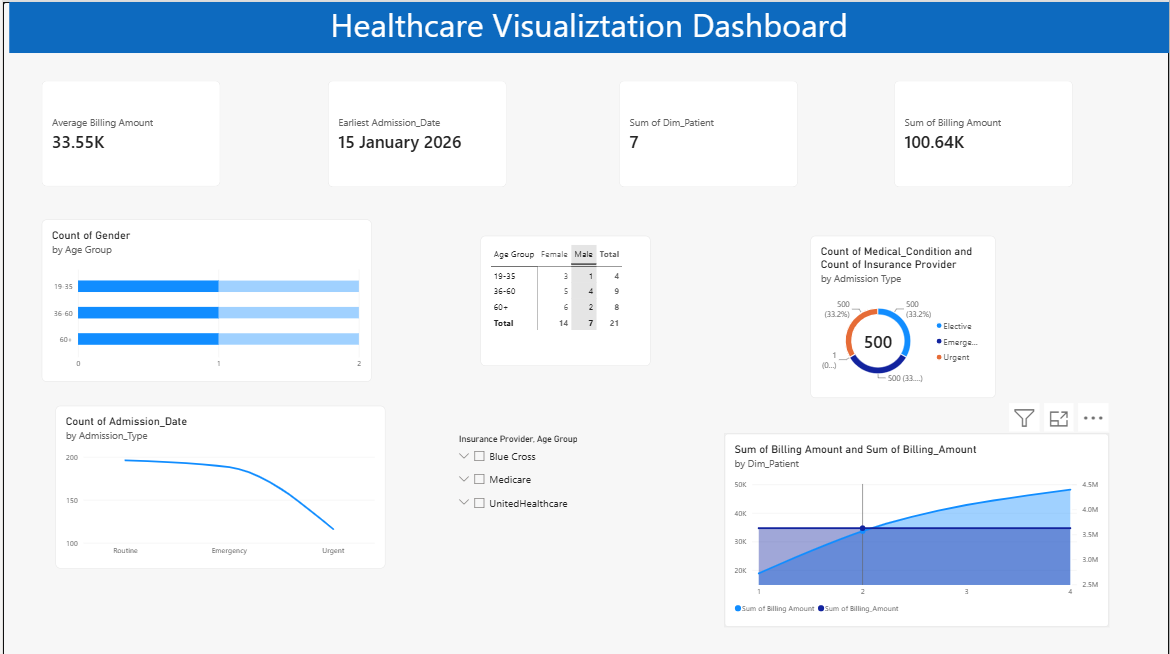

The dashboard page shown, as its layout file describes it:
{"tool":"powerbi","page":{"name":"Page 1","canvas":[1920,1080],"ordinal":0},"visuals":[{"type":"textbox","box":[10.3,0,1910.1,84.4],"z":0},{"type":"cardVisual","fields":{"Data":["Fact_Billing.Average Billing Amount"]},"box":[63.8,129.7,294.3,175],"z":1000},{"type":"cardVisual","fields":{"Data":["Min(healthcare_raw.Admission_Date)"]},"box":[535.2,129.7,294,175],"z":2000},{"type":"cardVisual","fields":{"Data":["Sum(healthcare_dataset.Dim_Patient)"]},"box":[1014.8,129.7,294,175],"z":3000},{"type":"cardVisual","fields":{"Data":["Sum(healthcare_dataset.Billing Amount)"]},"box":[1467.6,129.7,294,175],"z":4000},{"type":"clusteredBarChart","fields":{"Category":["healthcare_dataset.Age Group"],"Y":["CountNonNull(healthcare_dataset.Gender)"]},"box":[63.8,358.1,543.4,267.6],"z":5000},{"type":"pivotTable","fields":{"Columns":["healthcare_dataset.Gender"],"Rows":["healthcare_dataset.Age Group"],"Values":["Sum(healthcare_dataset.Dim_Patient)"]},"box":[786.3,384.9,279.9,214.1],"z":6000},{"type":"donutChart","fields":{"Category":["healthcare_dataset.Admission Type"],"Y":["CountNonNull(healthcare_raw.Medical_Condition)","CountNonNull(healthcare_dataset.Insurance Provider)"]},"box":[1329.7,384.9,304.6,267.6],"z":7000},{"type":"lineChart","fields":{"Category":["healthcare_raw.Admission_Type"],"Y":["CountNonNull(healthcare_raw.Admission_Date)"]},"box":[86.4,664.8,543,268],"z":8000},{"type":"slicer","fields":{"Values":["Fact_Billing.Insurance Provider","healthcare_dataset.Age Group"]},"box":[743.1,710.1,288.2,187.3],"z":8001},{"type":"areaChart","fields":{"Category":["healthcare_dataset.Dim_Patient"],"Y":["Sum(healthcare_dataset.Billing Amount)"],"Y2":["Sum(healthcare_raw.Billing_Amount)"]},"box":[1187.7,710.1,634,319],"z":8002}]}

Visuals, with their boxes in screenshot pixels (x1, y1, x2, y2), scaled from the page's 1920x1080 canvas onto the 1170x654 screenshot:
textbox: rect(6, 0, 1169, 51)
cardVisual - Fact_Billing.Average Billing Amount: rect(39, 79, 218, 185)
cardVisual - Min(healthcare_raw.Admission_Date): rect(326, 79, 505, 185)
cardVisual - Sum(healthcare_dataset.Dim_Patient): rect(618, 79, 798, 185)
cardVisual - Sum(healthcare_dataset.Billing Amount): rect(894, 79, 1073, 185)
clusteredBarChart - healthcare_dataset.Age Group x CountNonNull(healthcare_dataset.Gender): rect(39, 217, 370, 379)
pivotTable - healthcare_dataset.Gender x healthcare_dataset.Age Group: rect(479, 233, 650, 363)
donutChart - healthcare_dataset.Admission Type x CountNonNull(healthcare_raw.Medical_Condition): rect(810, 233, 996, 395)
lineChart - healthcare_raw.Admission_Type x CountNonNull(healthcare_raw.Admission_Date): rect(53, 403, 384, 565)
slicer - Fact_Billing.Insurance Provider x healthcare_dataset.Age Group: rect(453, 430, 628, 543)
areaChart - healthcare_dataset.Dim_Patient x Sum(healthcare_dataset.Billing Amount): rect(724, 430, 1110, 623)
